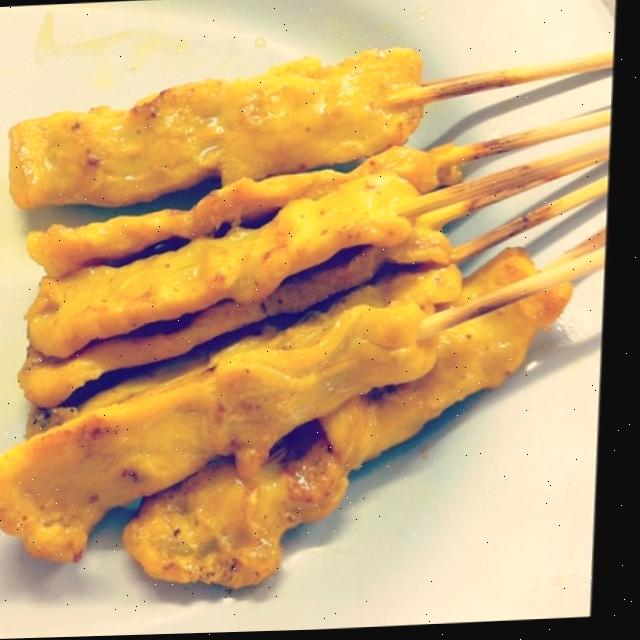牛肉菜式: (0, 2, 624, 622)
